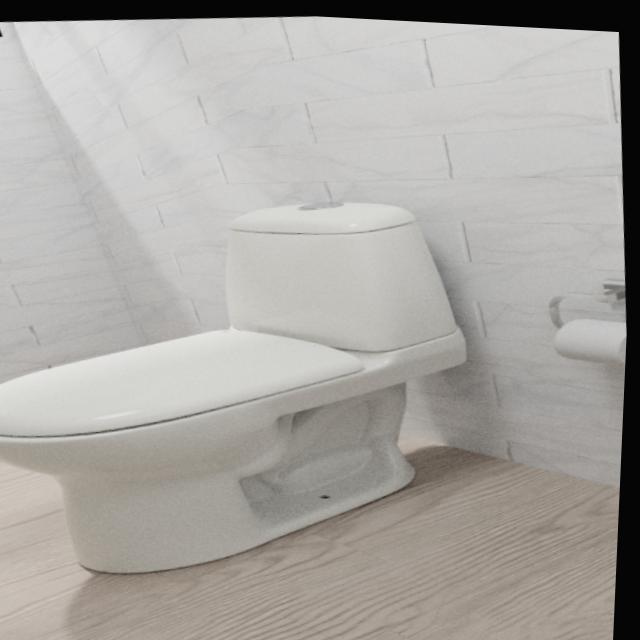toilet: (0, 173, 492, 594)
